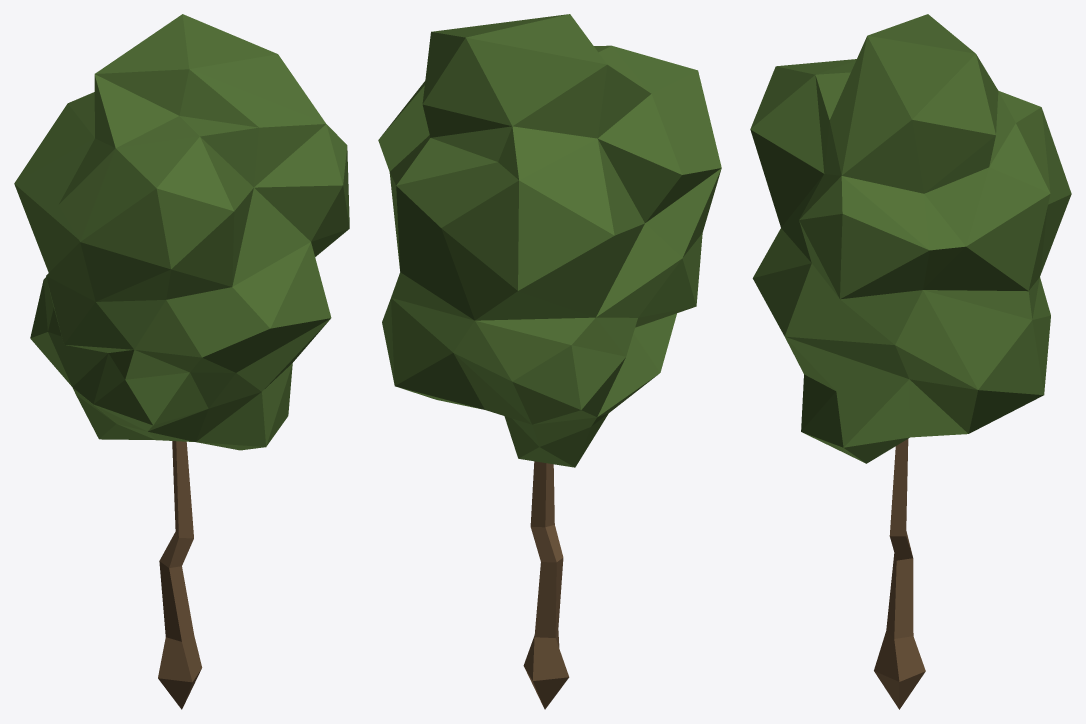
The model's file is Tree1.glb.
3 renders of one model, left to right at view 1: azimuth 30°, elevation 25°; view 2: azimuth 150°, elevation 25°; view 3: azimuth 270°, elevation 25°, orthographic. The views are drawn at different scales.
Visible parts, largest first — view 1: Icosphere; view 2: Icosphere; view 3: Icosphere.
Part boxes in pixels (x1,y1,x2,y2): Icosphere: (14, 14, 349, 709); Icosphere: (378, 14, 721, 709); Icosphere: (750, 14, 1071, 709).
Size of the model in its own units: 7.87 by 17.74 by 7.65.
Materials: 1 (1 with a texture image).
